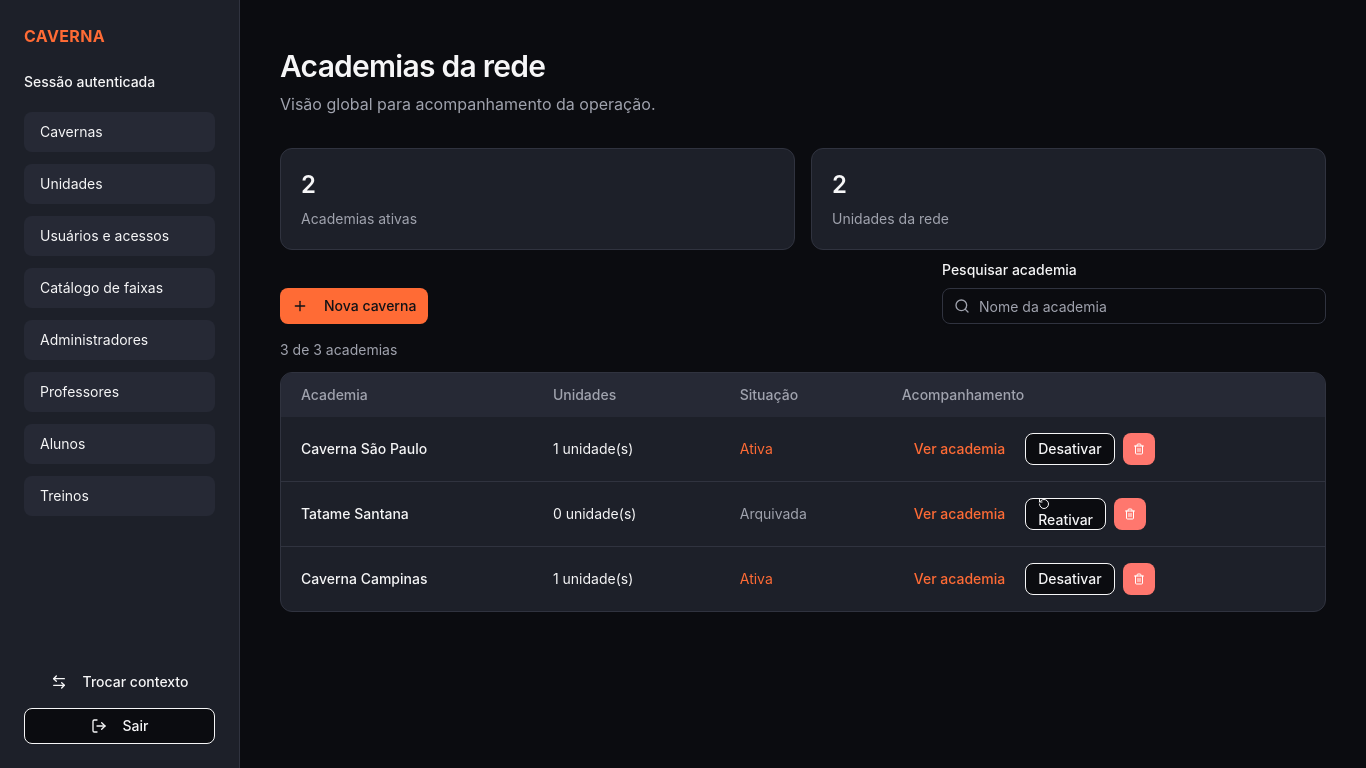
Test: explains when a search matches nothing without claiming the network is empty
The width and height of the screenshot is (1366, 768).
Step 1. Type "inexistente" into the search field labelled "Pesquisar academia" → (1134, 306), box [942,288,1326,324]
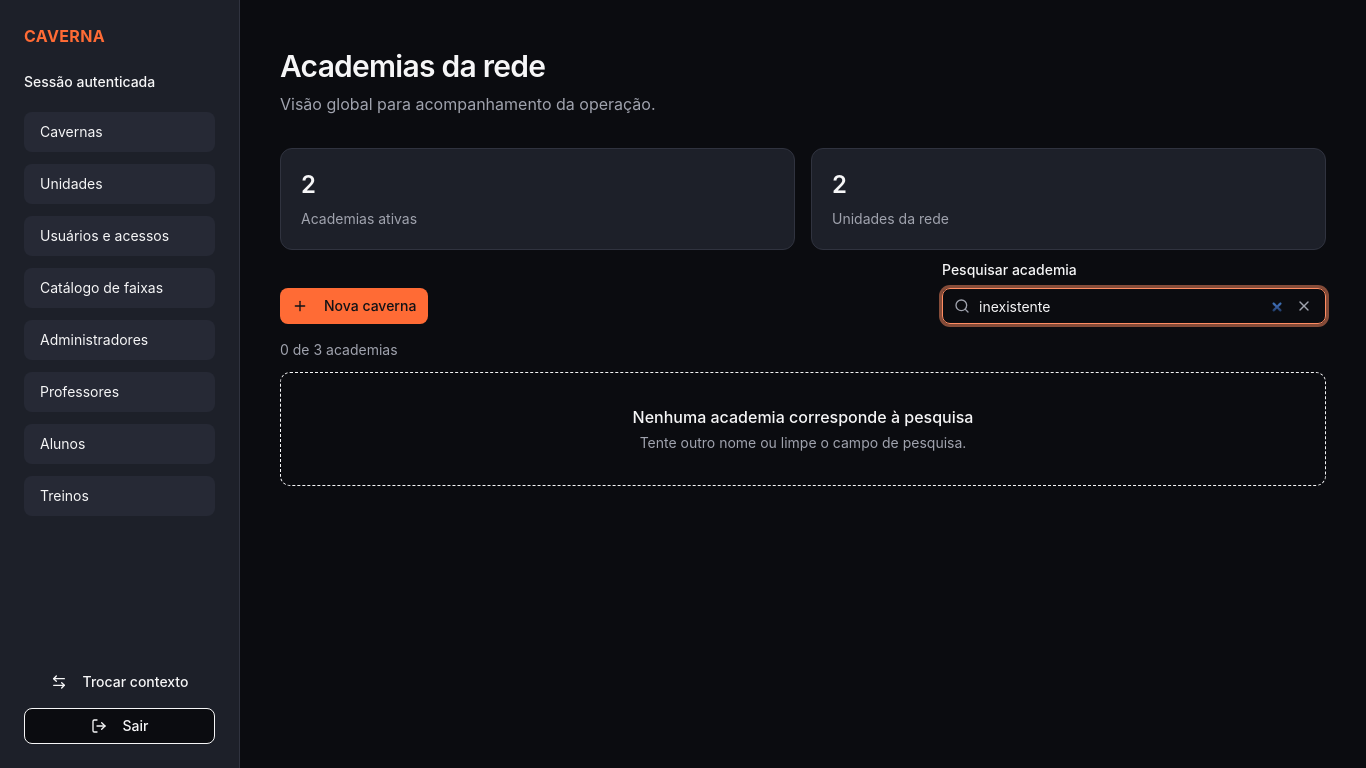
Expected: the heading "Nenhuma academia corresponde à pesquisa" is shown, [633,407,973,427]
Expected: the text "0 de 3 academias" is shown, [280,341,398,358]
